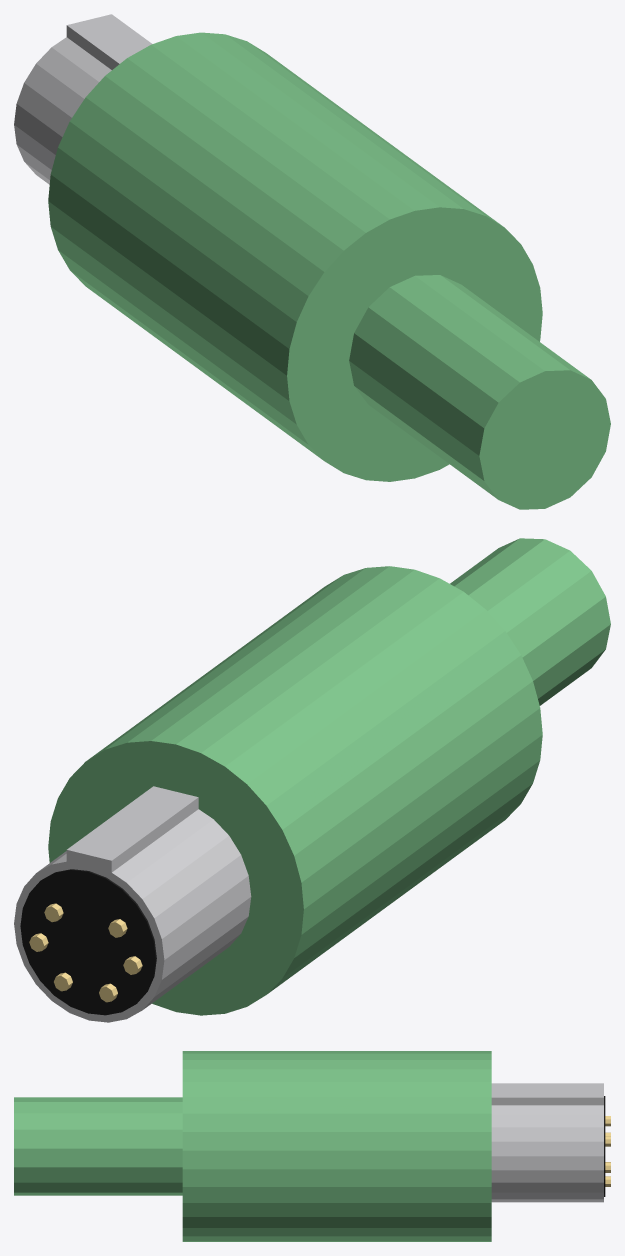
File: cable_ps2_plug_mouse.glb
The picture shows the model from 3 angles, top to bottom: view 1: azimuth 30°, elevation 25°; view 2: azimuth 150°, elevation 25°; view 3: azimuth 270°, elevation 25°; orthographic projection. The views are drawn at different scales.
Parts seen in each view (by area): view 1: plug_body; view 2: plug_body; view 3: plug_body.
Boxes of the visible parts, x1,y1,x2,y2 form: plug_body: [14, 14, 610, 509]; plug_body: [14, 538, 610, 1022]; plug_body: [14, 1051, 610, 1241].
Bounding box in the file's own units: 0.0136 × 0.0136 × 0.0425.
